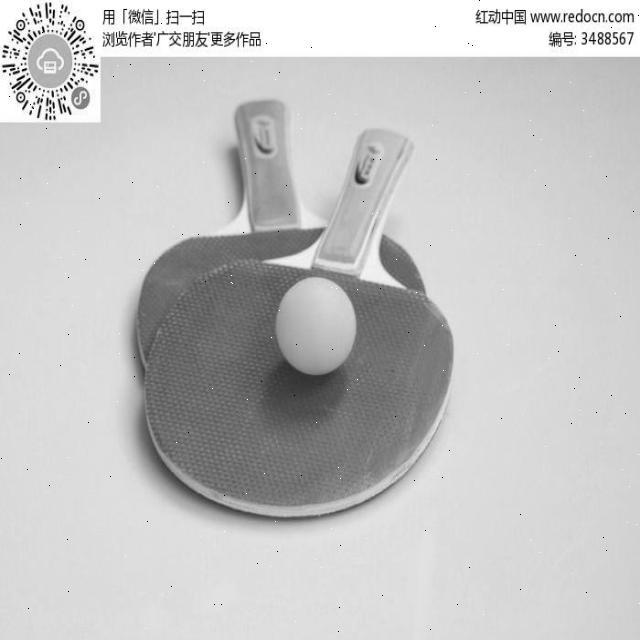ping-pong-ball: (272, 272, 360, 378)
